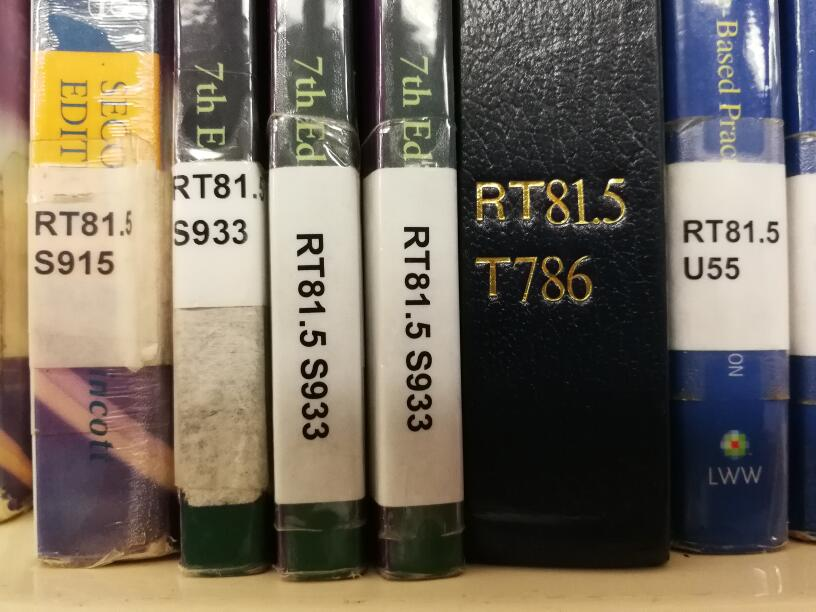booklabel: (471, 174, 628, 306), (289, 229, 339, 441), (397, 222, 441, 434), (30, 204, 136, 279), (167, 168, 267, 247), (677, 215, 782, 283)
